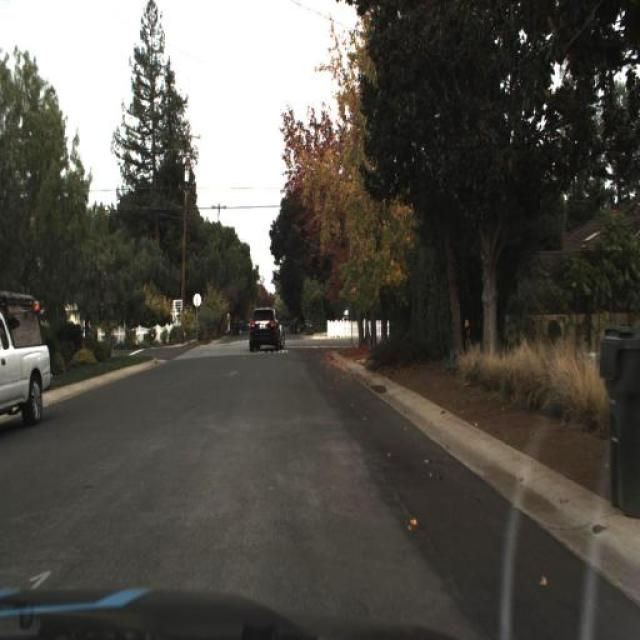car: (0, 297, 52, 428), (246, 304, 288, 354)
